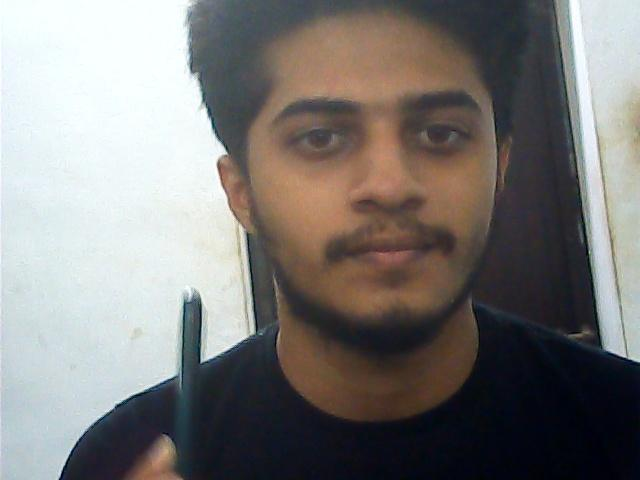PhoneUse: (161, 295, 237, 467)
SafeDriving: (396, 101, 484, 162), (277, 108, 368, 163)
